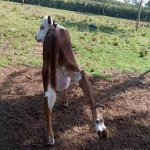Animal: (35, 15, 107, 146)
Uncultivated: (3, 4, 147, 148)
